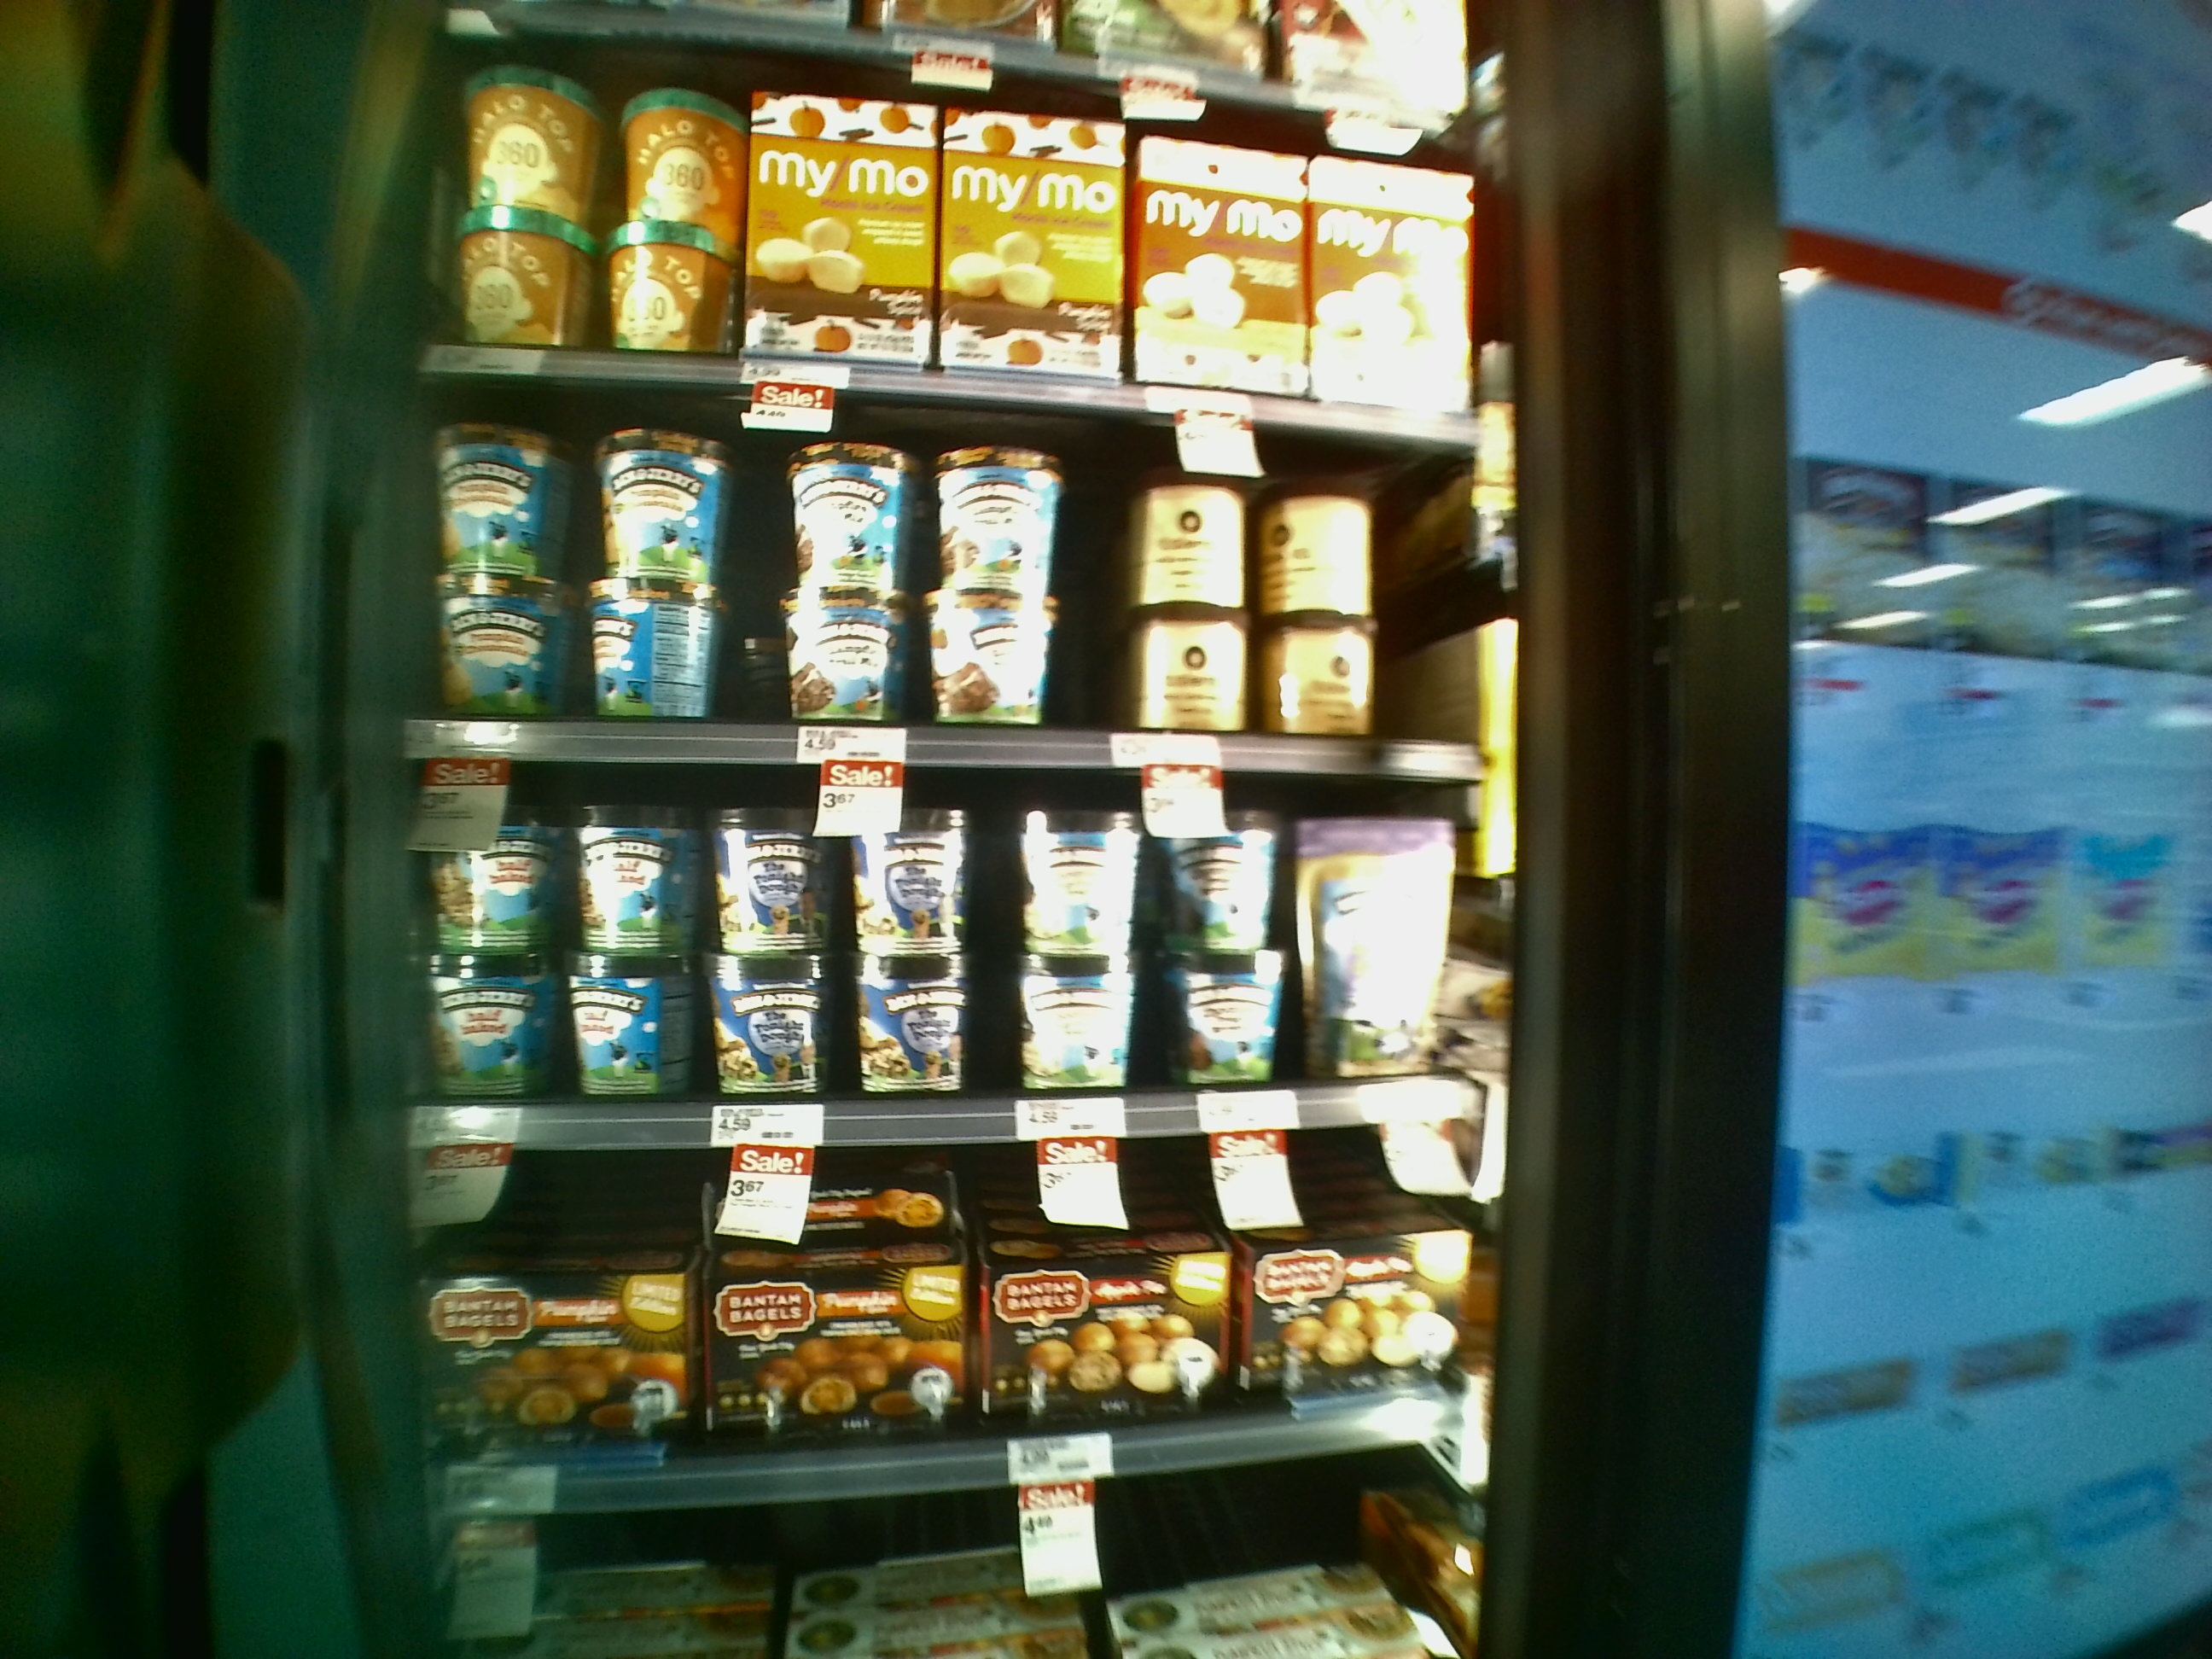shelf: (374, 727, 1524, 1134), (397, 357, 1514, 775), (387, 1124, 1529, 1492)
